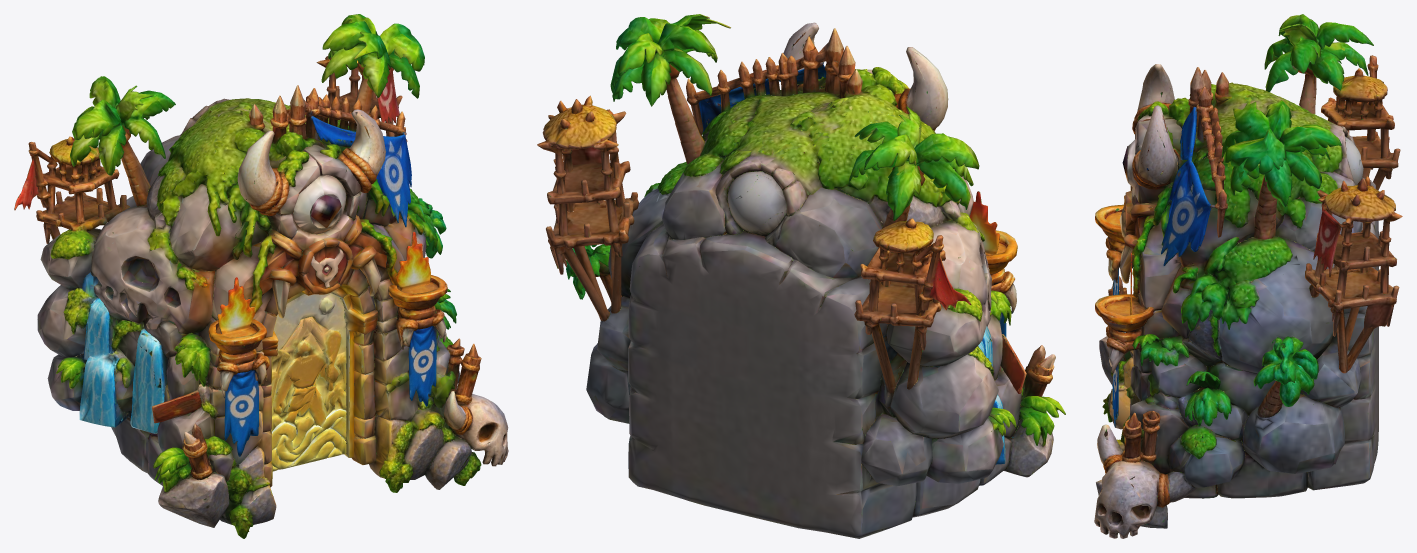
File: gate_cyclops.glb
The picture shows the model from 3 angles, left to right: view 1: azimuth 30°, elevation 25°; view 2: azimuth 150°, elevation 25°; view 3: azimuth 270°, elevation 25°; orthographic projection. The views are drawn at different scales.
Visible parts, largest first — view 1: tripo_part_1, tripo_part_0, tripo_part_3, tripo_part_12, tripo_part_11, tripo_part_13, tripo_part_9, tripo_part_7, tripo_part_15, tripo_part_8, tripo_part_5, tripo_part_16 (+23 smaller); view 2: tripo_part_1, tripo_part_0, tripo_part_2, tripo_part_13, tripo_part_11, tripo_part_12, tripo_part_15, tripo_part_29, tripo_part_6, tripo_part_10, tripo_part_9, tripo_part_24 (+8 smaller); view 3: tripo_part_1, tripo_part_11, tripo_part_2, tripo_part_0, tripo_part_12, tripo_part_5, tripo_part_13, tripo_part_4, tripo_part_14, tripo_part_15, tripo_part_20, tripo_part_17 (+13 smaller).
Boxes of the visible parts, bbox=[...] form: tripo_part_1: bbox=[37, 135, 459, 487]; tripo_part_0: bbox=[147, 98, 389, 313]; tripo_part_3: bbox=[271, 293, 346, 471]; tripo_part_12: bbox=[70, 76, 175, 206]; tripo_part_11: bbox=[321, 14, 437, 251]; tripo_part_13: bbox=[28, 136, 130, 243]; tripo_part_9: bbox=[158, 470, 276, 538]; tripo_part_7: bbox=[79, 297, 129, 427]; tripo_part_15: bbox=[270, 85, 405, 143]; tripo_part_8: bbox=[374, 396, 455, 492]; tripo_part_5: bbox=[443, 391, 508, 466]; tripo_part_16: bbox=[369, 425, 471, 489]; tripo_part_1: bbox=[586, 69, 1025, 538]; tripo_part_0: bbox=[683, 69, 978, 234]; tripo_part_2: bbox=[537, 95, 638, 321]; tripo_part_13: bbox=[854, 218, 945, 403]; tripo_part_11: bbox=[610, 14, 730, 196]; tripo_part_12: bbox=[849, 106, 979, 228]; tripo_part_15: bbox=[686, 28, 855, 135]; tripo_part_29: bbox=[727, 171, 786, 247]; tripo_part_6: bbox=[894, 47, 948, 130]; tripo_part_10: bbox=[970, 191, 1017, 274]; tripo_part_9: bbox=[1004, 411, 1053, 477]; tripo_part_24: bbox=[1023, 345, 1055, 397]; tripo_part_1: bbox=[1119, 114, 1378, 498]; tripo_part_11: bbox=[1181, 100, 1341, 330]; tripo_part_2: bbox=[1305, 176, 1402, 373]; tripo_part_0: bbox=[1153, 72, 1355, 236]; tripo_part_12: bbox=[1264, 14, 1373, 113]; tripo_part_5: bbox=[1094, 424, 1170, 538]; tripo_part_13: bbox=[1321, 55, 1400, 190]; tripo_part_4: bbox=[1161, 106, 1214, 265]; tripo_part_14: bbox=[1253, 336, 1318, 417]; tripo_part_15: bbox=[1188, 67, 1227, 237]; tripo_part_20: bbox=[1132, 105, 1182, 189]; tripo_part_17: bbox=[1095, 294, 1154, 373].
Size of the model in its own units: 13.02 by 13 by 8.76.
Materials: 51 (51 with a texture image).
